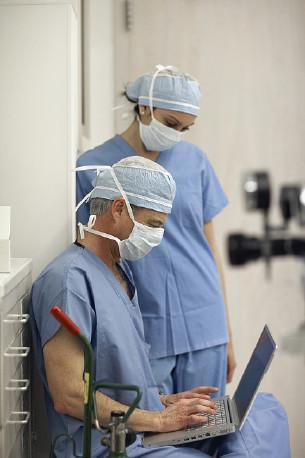OK: (112, 207, 167, 262), (142, 107, 195, 155)
